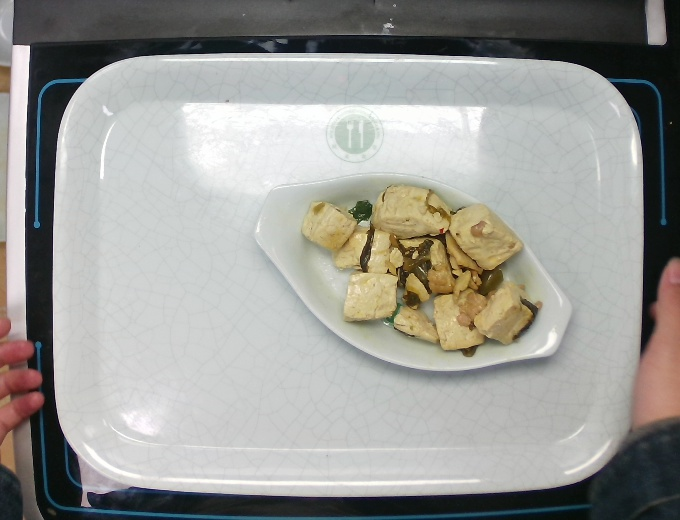JYsf-Yu_Pan: (253, 170, 573, 375)
